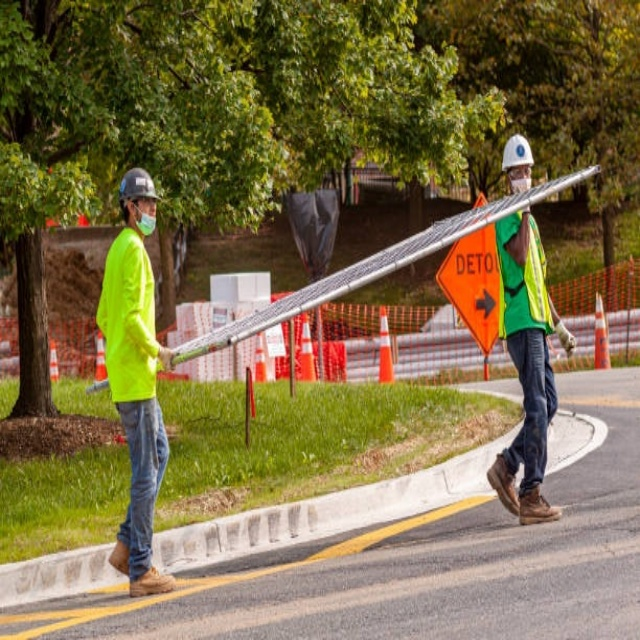Gafas: (505, 165, 534, 176)
Guantes: (554, 314, 579, 358), (156, 344, 179, 376)
Mascara: (130, 201, 158, 235), (508, 176, 534, 196)
